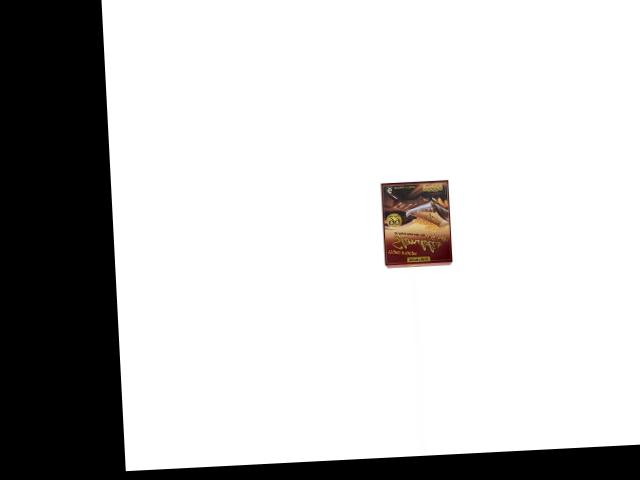chocolate: (380, 179, 452, 268)
